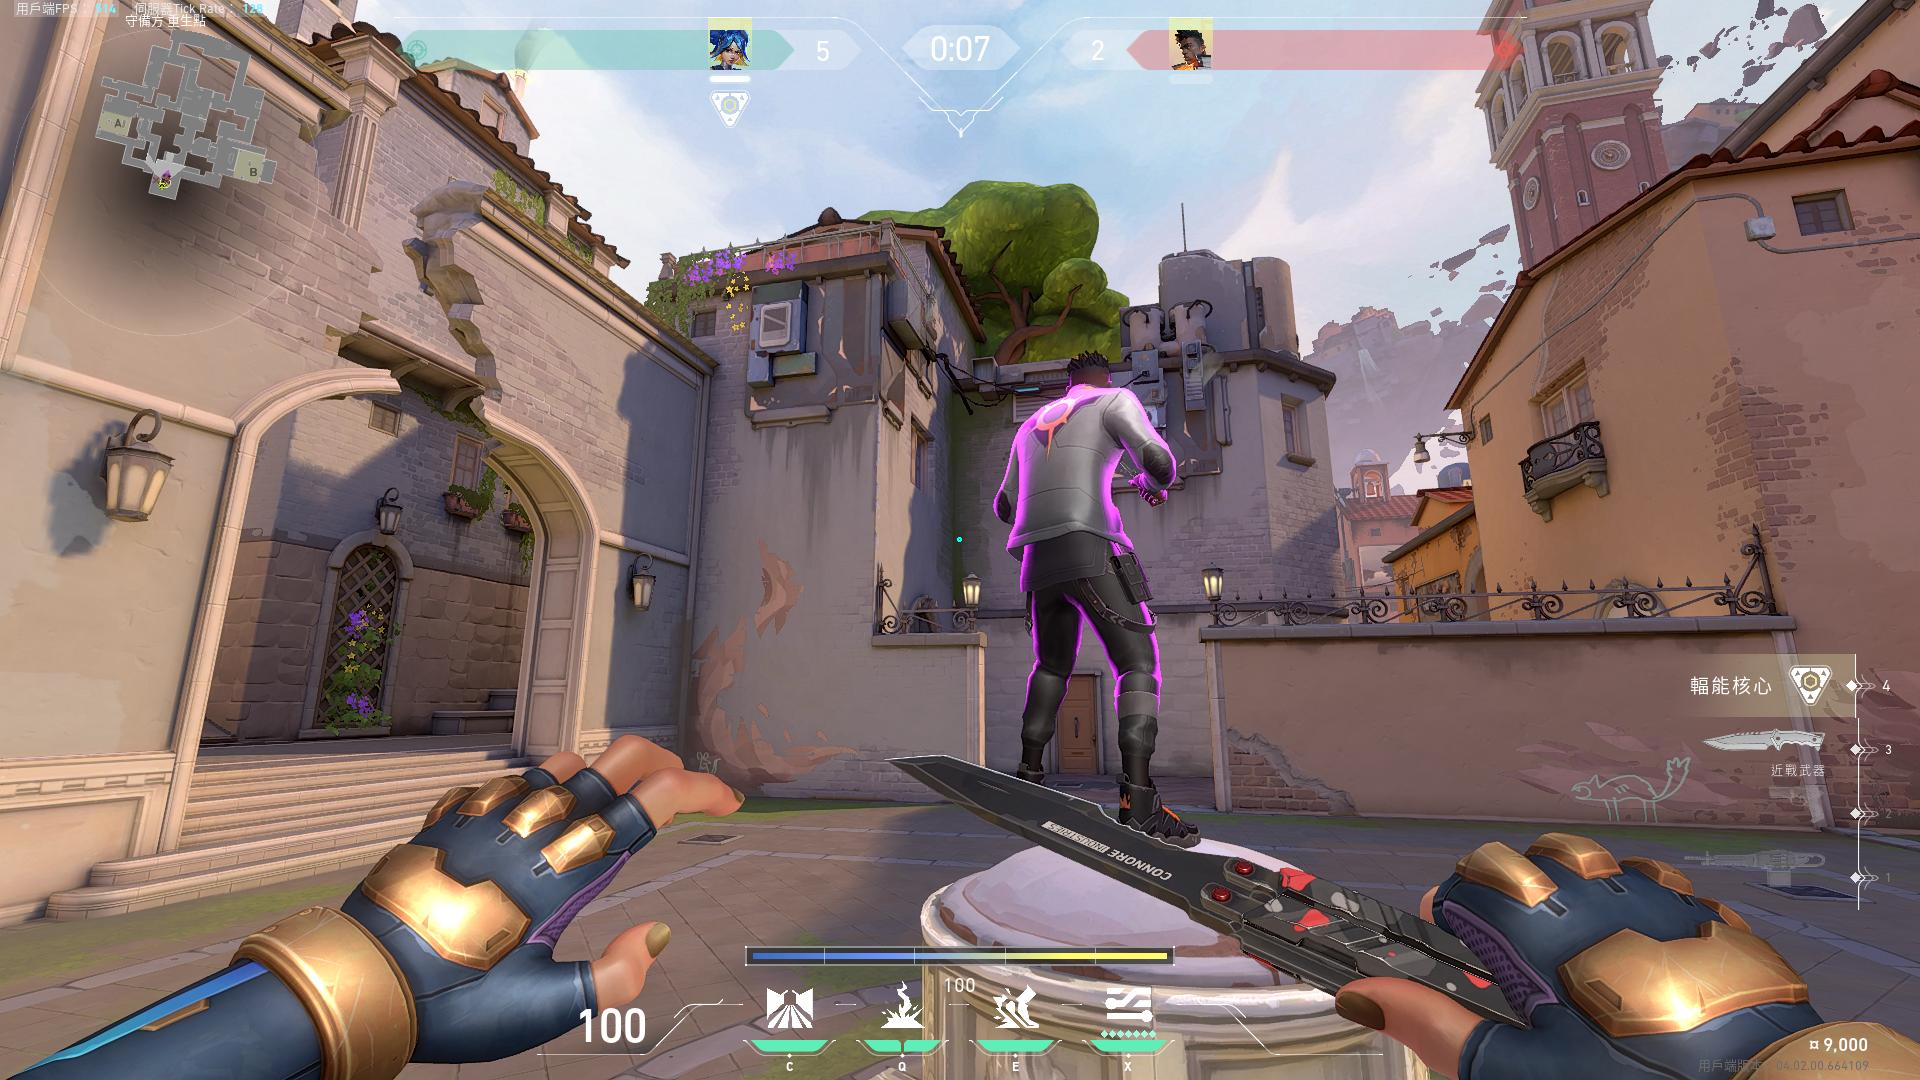enemyBody: (1035, 413, 1105, 527)
enemyHead: (1077, 363, 1110, 392)
